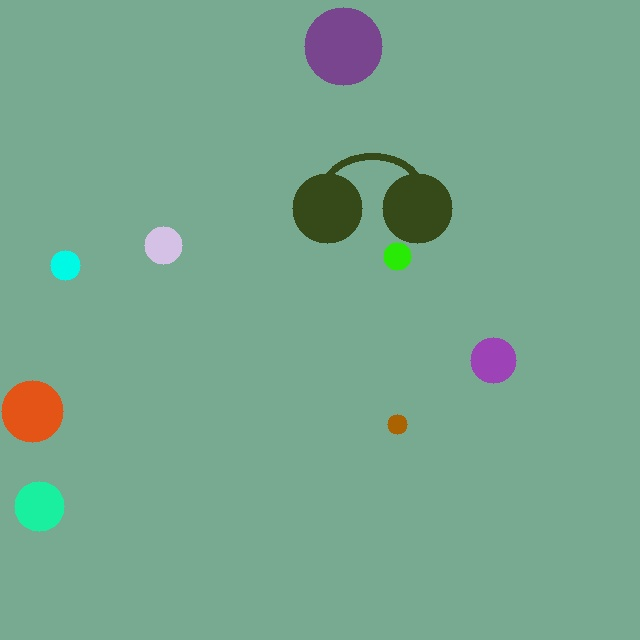over_ear: (288, 143, 456, 247)
